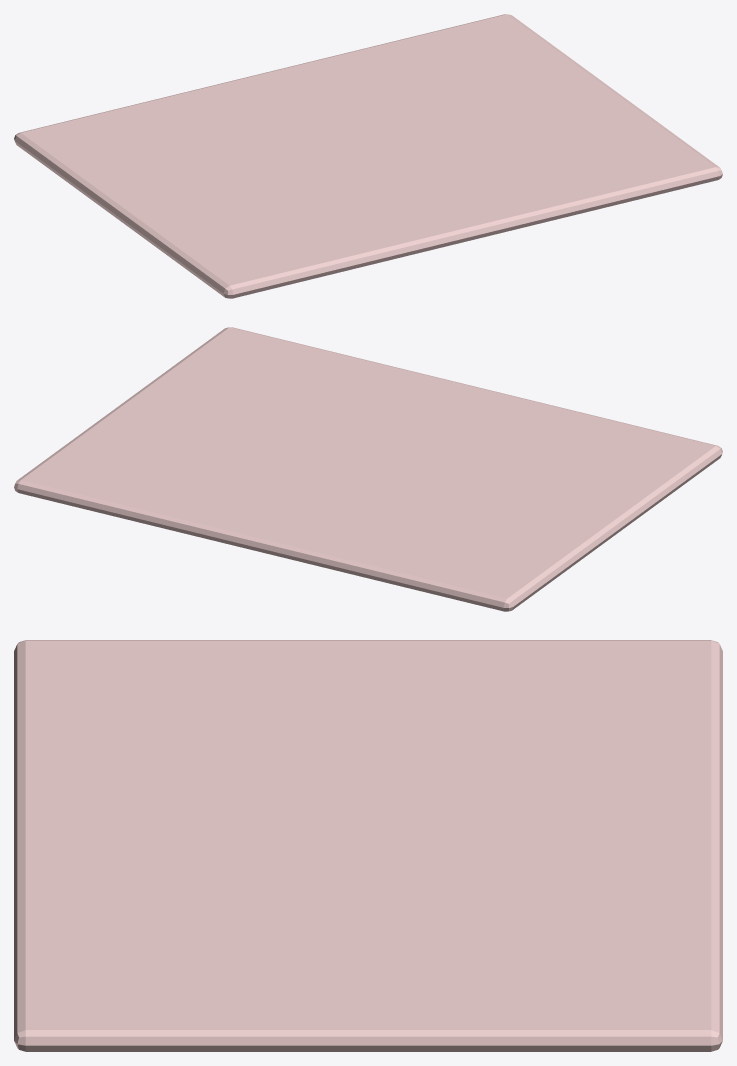
File: child_rug.glb
3 renders of one model, top to bottom at view 1: azimuth 30°, elevation 25°; view 2: azimuth 150°, elevation 25°; view 3: azimuth 270°, elevation 25°, orthographic. The views are drawn at different scales.
Visible parts, largest first — view 1: Tint.005; view 2: Tint.005; view 3: Tint.005.
Part boxes in pixels (x1=…): Tint.005: x1=14, y1=14, x2=722, y2=298; Tint.005: x1=14, y1=327, x2=722, y2=611; Tint.005: x1=14, y1=640, x2=722, y2=1051.
Size of the model in its own units: 1.6 by 0.04 by 1.2.
